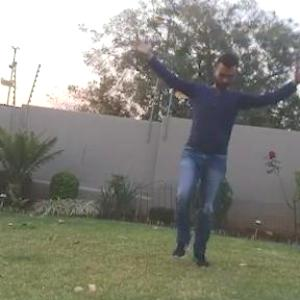takeoff: (137, 35, 299, 260)
